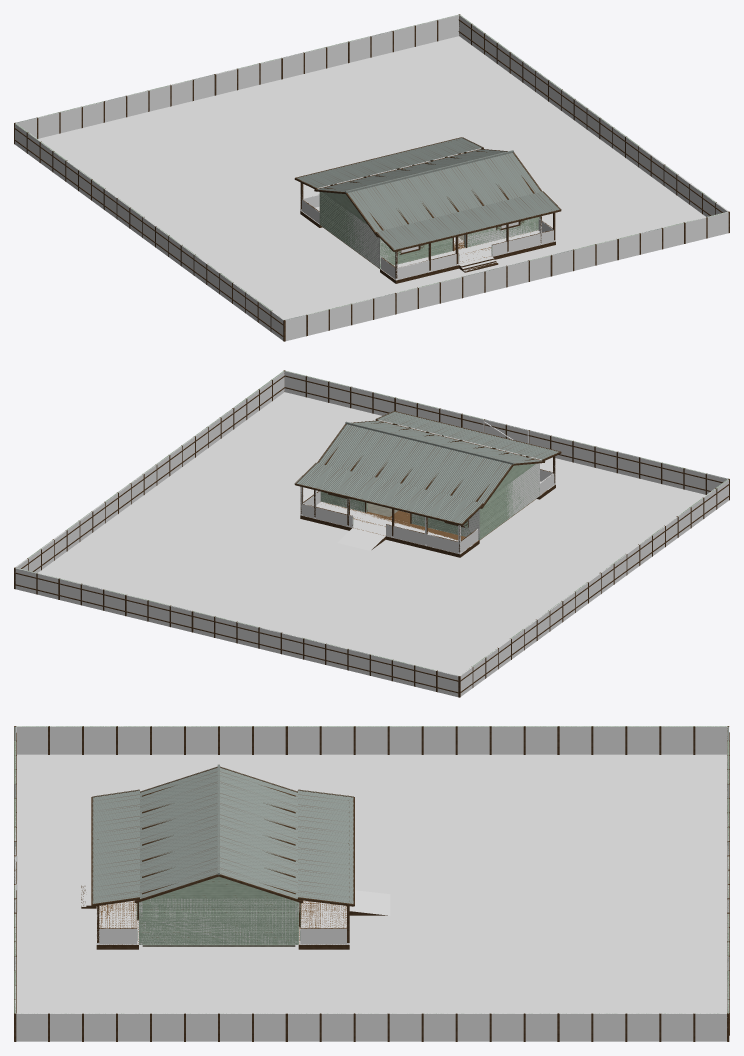
Rendered from hub.glb.
3 renders of one model, top to bottom at view 1: azimuth 30°, elevation 25°; view 2: azimuth 150°, elevation 25°; view 3: azimuth 270°, elevation 25°, orthographic. The views are drawn at different scales.
Parts seen in each view (by area): view 1: COL_Floors, COL_Walls, Exterior_Metal_Galvanised, Roof_Timber_Trim, Interior_Timber_Cladding, Exterior_Timber_Cladding; view 2: COL_Floors, COL_Walls, Exterior_Metal_Galvanised, Roof_Timber_Trim, Interior_Timber_Cladding, Exterior_Timber_Cladding; view 3: COL_Floors, COL_Walls, Exterior_Metal_Galvanised, Interior_Timber_Cladding, Roof_Timber_Trim, Exterior_Timber_Cladding, Exterior_Timber_Floor, Interior_Timber_Trim.
Boxes of the visible parts, x1,y1,x2,y2 form: COL_Floors: (38, 36, 705, 319); COL_Walls: (15, 15, 728, 340); Exterior_Metal_Galvanised: (16, 31, 661, 319); Roof_Timber_Trim: (14, 14, 729, 341); Interior_Timber_Cladding: (319, 192, 539, 268); Exterior_Timber_Cladding: (15, 14, 727, 316); COL_Floors: (38, 392, 705, 675); COL_Walls: (15, 371, 728, 696); Exterior_Metal_Galvanised: (82, 387, 727, 676); Roof_Timber_Trim: (14, 370, 729, 697); Interior_Timber_Cladding: (320, 463, 539, 539); Exterior_Timber_Cladding: (16, 370, 728, 674); COL_Floors: (17, 754, 726, 1013); COL_Walls: (14, 726, 729, 1041); Exterior_Metal_Galvanised: (14, 727, 728, 970); Interior_Timber_Cladding: (139, 876, 298, 944); Roof_Timber_Trim: (14, 726, 729, 1041); Exterior_Timber_Cladding: (14, 726, 728, 1013); Exterior_Timber_Floor: (99, 901, 348, 944); Interior_Timber_Trim: (138, 785, 299, 926).
Size of what is drawn, in the model's own units: 40.17 by 5.14 by 42.17.
11 materials, 8 textured.
